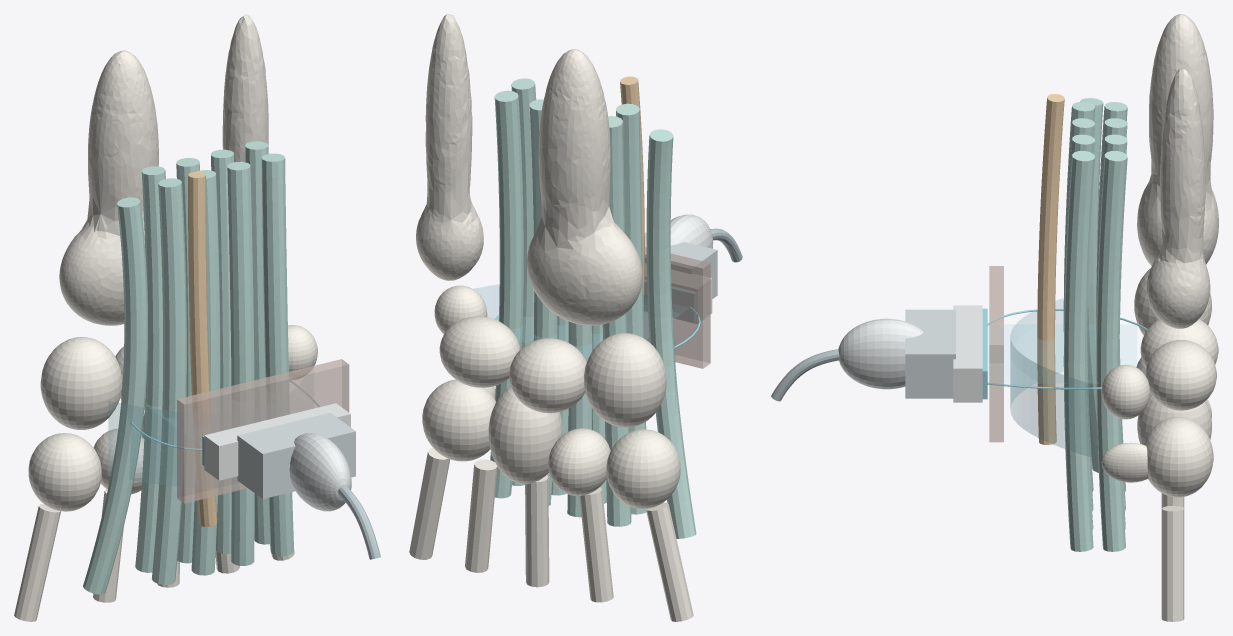
The model's file is wrist-short.glb.
3 views of the same model, side by side, from view 1: azimuth 30°, elevation 25°; view 2: azimuth 150°, elevation 25°; view 3: azimuth 270°, elevation 25° (orthographic). The views are drawn at different scales.
Parts seen in each view (by area): view 1: Distal radius, Local skin contact patch - surrounding skin omitted, FDS tendon 1, FPL tendon, FDS tendon 3, FDS tendon 4, FDP tendon 1, Median nerve, Scaphoid, Transducer body, Distal ulna, Trapezium (+12 smaller); view 2: Distal radius, Distal ulna, FPL tendon, FDP tendon 4, Scaphoid, Capitate, Trapezium, Lunate, Hamate, Local skin contact patch - surrounding skin omitted, Triquetrum, FDS tendon 1 (+21 smaller); view 3: Distal ulna, FDS tendon 4, FDP tendon 4, Distal radius, Flexor retinaculum - transparent teaching roof, Median nerve, Hamate, Transducer body, Transducer grip, Triquetrum, Illustrative imaging plane - not a simulated sonogram, FPL tendon (+15 smaller).
Boxes of the visible parts, <box> form: Distal radius: <box>59,50,158,325</box>; Local skin contact patch - surrounding skin omitted: <box>177,359,349,503</box>; FDS tendon 1: <box>152,178,186,584</box>; FPL tendon: <box>83,197,147,594</box>; FDS tendon 3: <box>227,161,254,565</box>; FDS tendon 4: <box>261,153,293,556</box>; FDP tendon 1: <box>135,166,165,572</box>; Median nerve: <box>188,172,217,526</box>; Scaphoid: <box>40,337,122,429</box>; Transducer body: <box>237,412,355,498</box>; Distal ulna: <box>222,14,268,162</box>; Trapezium: <box>28,433,101,511</box>; Distal radius: <box>527,49,642,325</box>; Distal ulna: <box>416,14,483,280</box>; FPL tendon: <box>646,129,696,538</box>; FDP tendon 4: <box>490,90,523,498</box>; Scaphoid: <box>584,333,666,427</box>; Capitate: <box>488,386,562,483</box>; Trapezium: <box>606,429,680,508</box>; Lunate: <box>509,338,586,413</box>; Hamate: <box>422,379,495,461</box>; Local skin contact patch - surrounding skin omitted: <box>644,247,710,368</box>; Triquetrum: <box>439,316,520,387</box>; FDS tendon 1: <box>616,103,646,514</box>; Distal ulna: <box>1146,68,1210,328</box>; FDS tendon 4: <box>1063,151,1095,551</box>; FDP tendon 4: <box>1096,151,1127,551</box>; Distal radius: <box>1137,14,1218,266</box>; Flexor retinaculum - transparent teaching roof: <box>1010,298,1092,457</box>; Median nerve: <box>1037,94,1064,444</box>; Hamate: <box>1144,417,1213,497</box>; Transducer body: <box>905,309,955,398</box>; Transducer grip: <box>838,318,923,389</box>; Triquetrum: <box>1145,340,1216,410</box>; Illustrative imaging plane - not a simulated sonogram: <box>988,325,1136,382</box>; FPL tendon: <box>1080,98,1103,472</box>.
Bounding box in the file's own units: 1.94 × 3.65 × 2.75.
